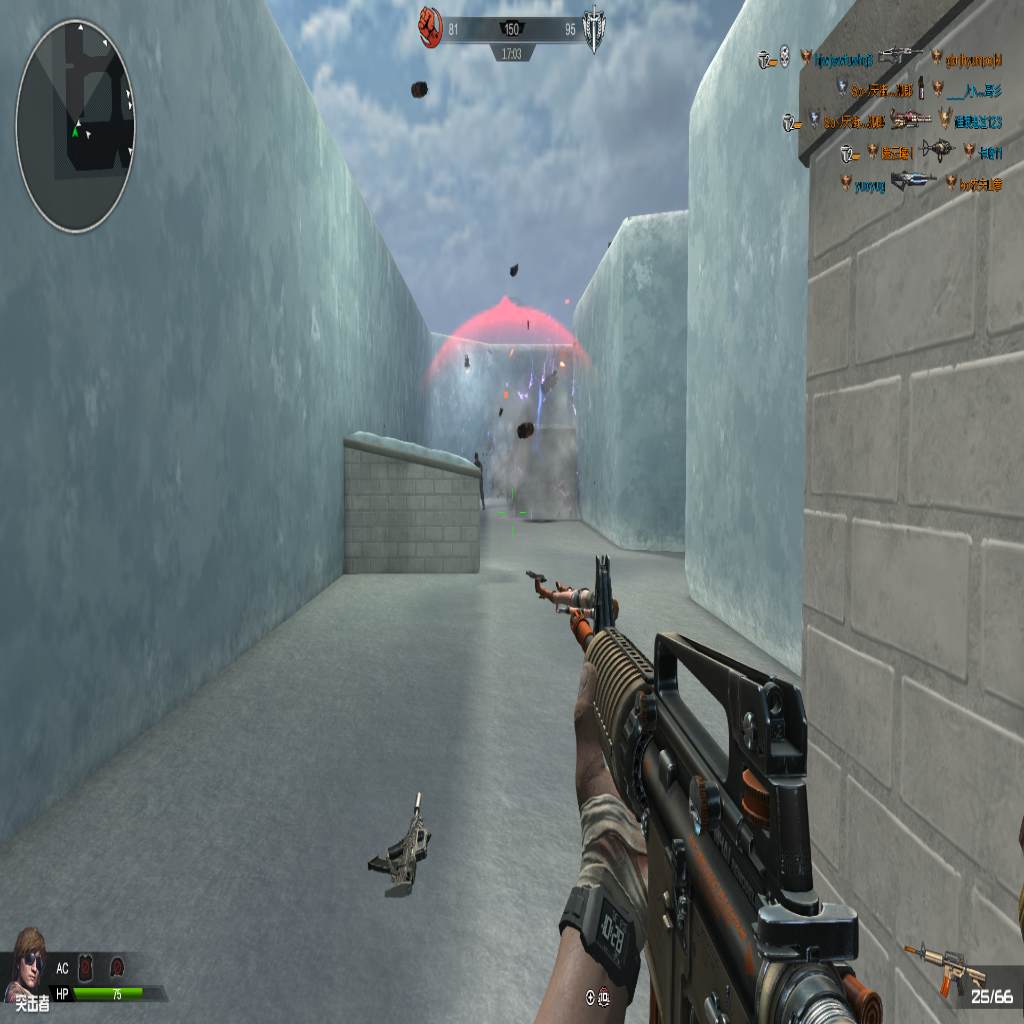ct: (474, 448, 484, 510)
